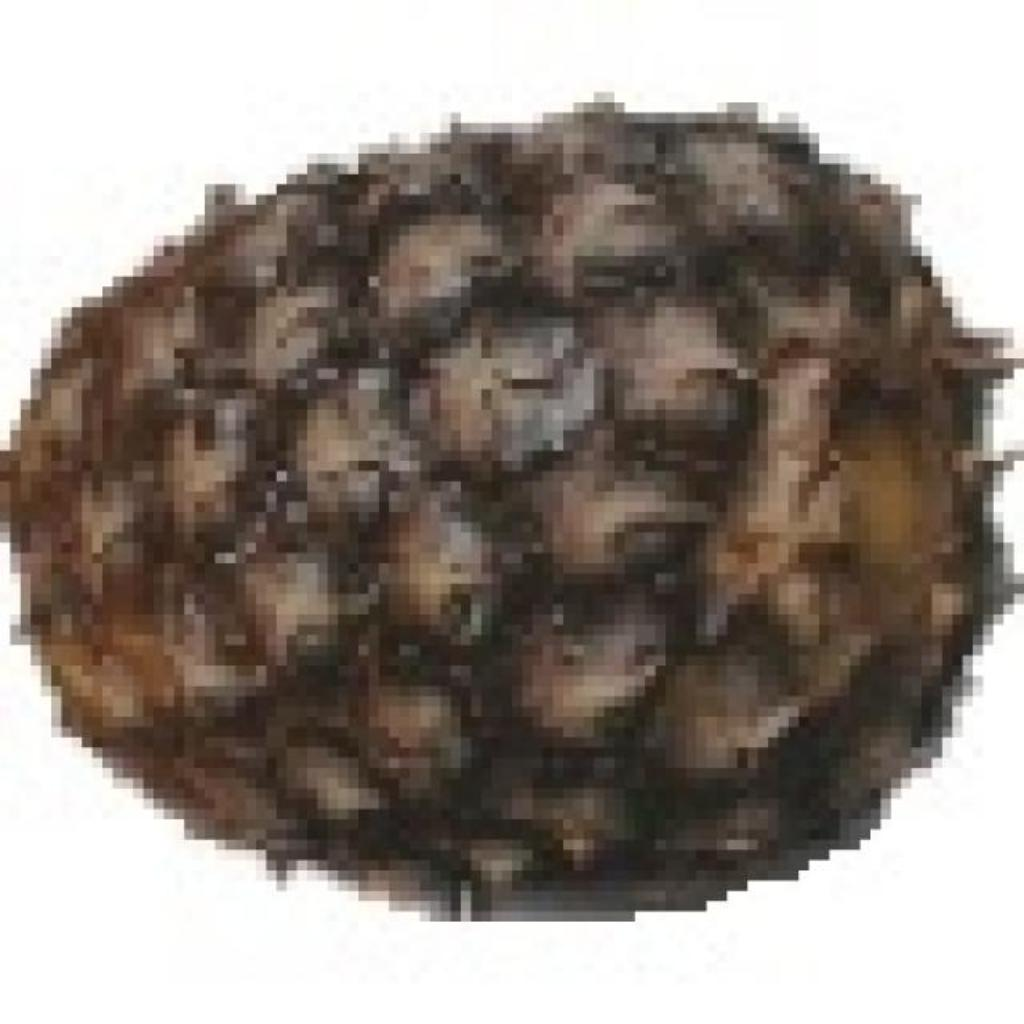pineapple: (0, 92, 983, 891)
